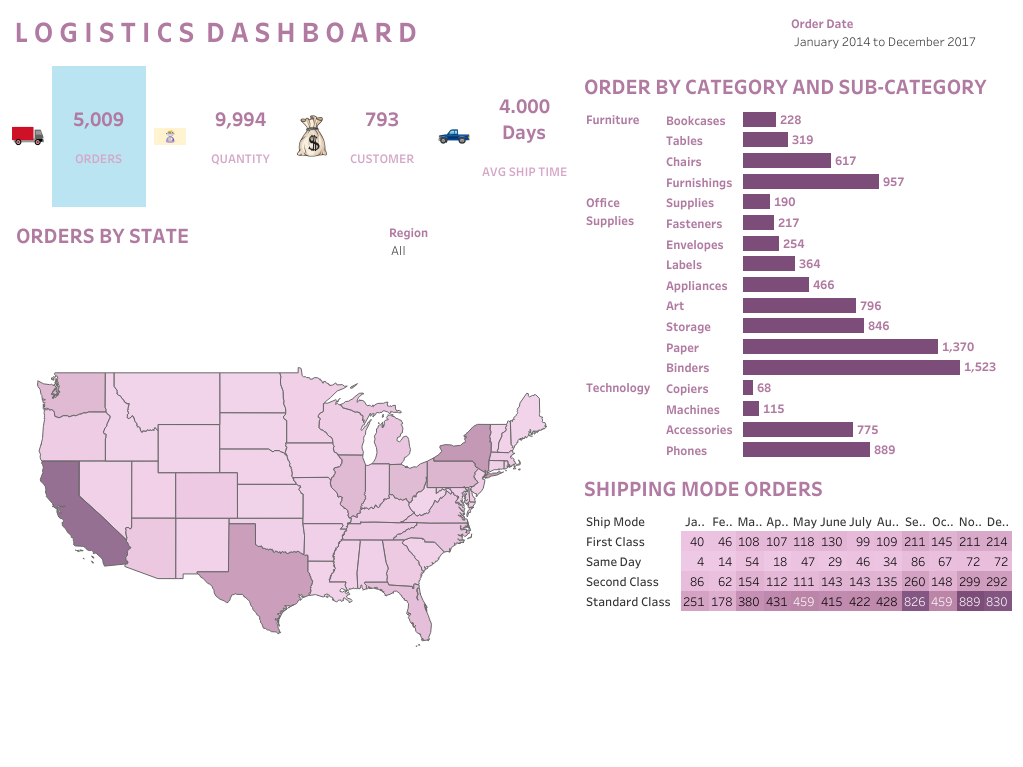

This screenshot's page, from the dashboard's own definition file:
{"tool":"tableau","page":{"name":"Viz","canvas":[1024,768],"ordinal":0},"visuals":[{"type":"text","box":[8,8,1008,46]},{"type":"filter","title":"Orders","param":"[federated.1dxxabl0pnp0fr13apr6z0odcbp2].[tmn:Order Date:qk]","box":[791,13,193,70]},{"type":"image","param":"Image/Order Image.png","box":[8,62,40,149]},{"type":"worksheet","title":"Orders","mark":"Automatic","box":[48,62,102,149]},{"type":"image","param":"Image/Quantity.png","box":[150,62,40,149]},{"type":"worksheet","title":"Qty","mark":"Automatic","box":[190,62,102,149]},{"type":"image","param":"Image/Customer image.jpg","box":[292,62,40,149]},{"type":"worksheet","title":"Customer","mark":"Automatic","box":[332,62,102,149]},{"type":"image","param":"Image/AVG.jpg","box":[434,62,40,149]},{"type":"worksheet","title":"Avg Time to Ship","mark":"Automatic","box":[474,62,102,149]},{"type":"worksheet","title":"Sheet 7","mark":"Bar","rows":["Category","Sub-Category"],"cols":["Order ID"],"box":[576,62,440,402]},{"type":"worksheet","title":"ORDERS BY STATE","mark":"Automatic","box":[8,211,568,549]},{"type":"filter","title":"ORDERS BY STATE","param":"[federated.1dxxabl0pnp0fr13apr6z0odcbp2].[none:Region:nk]","box":[389,222,160,48]},{"type":"worksheet","title":"SHIPPING MODE ORDERS","mark":"Square","rows":["Ship Mode"],"cols":["Order Date"],"box":[576,464,440,151]}]}

Visuals, with their boxes in screenshot pixels (x1, y1, x2, y2), scaled from the page's 1024x768 canvas onto the 1023x767 screenshot:
text: [x1=8, y1=8, x2=1015, y2=54]
"Orders" filter: [x1=790, y1=13, x2=983, y2=83]
image: [x1=8, y1=62, x2=48, y2=211]
"Orders" worksheet: [x1=48, y1=62, x2=150, y2=211]
image: [x1=150, y1=62, x2=190, y2=211]
"Qty" worksheet: [x1=190, y1=62, x2=292, y2=211]
image: [x1=292, y1=62, x2=332, y2=211]
"Customer" worksheet: [x1=332, y1=62, x2=434, y2=211]
image: [x1=434, y1=62, x2=474, y2=211]
"Avg Time to Ship" worksheet: [x1=474, y1=62, x2=575, y2=211]
"Sheet 7" worksheet (Bar marks): [x1=575, y1=62, x2=1015, y2=463]
"ORDERS BY STATE" worksheet: [x1=8, y1=211, x2=575, y2=759]
"ORDERS BY STATE" filter: [x1=389, y1=222, x2=548, y2=270]
"SHIPPING MODE ORDERS" worksheet (Square marks): [x1=575, y1=463, x2=1015, y2=614]
